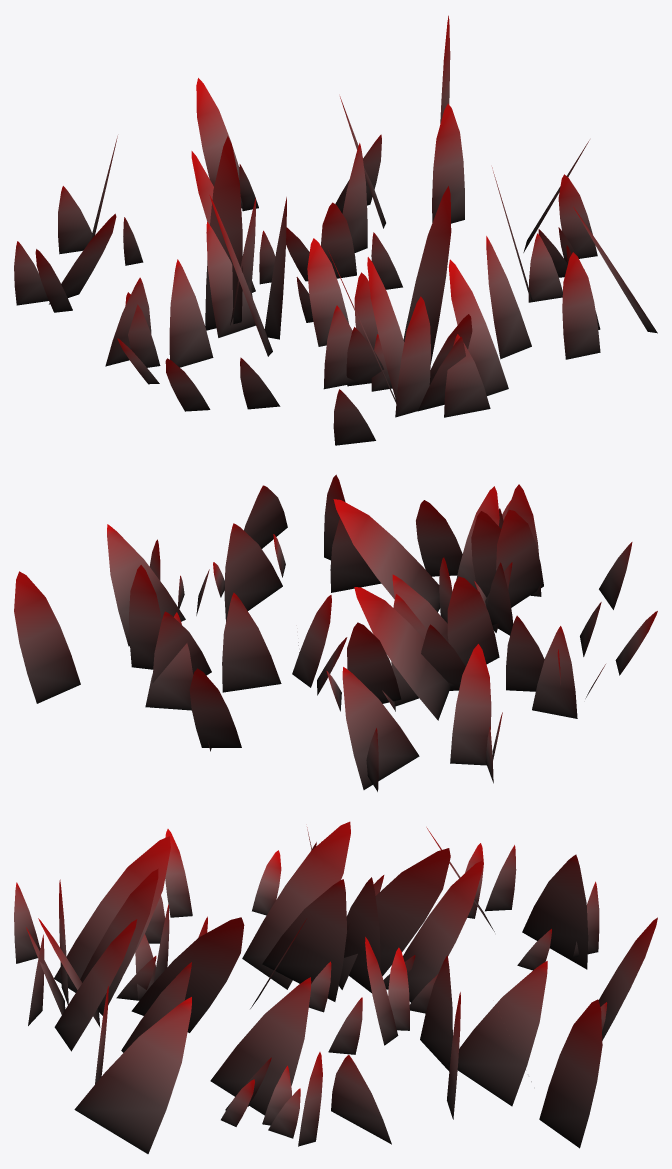
Rendered from f_Grass_Test_3.fbx.
3 views of the same model, one above another, from view 1: azimuth 30°, elevation 25°; view 2: azimuth 150°, elevation 25°; view 3: azimuth 270°, elevation 25° (orthographic). The views are drawn at different scales.
Visible parts, largest first — view 1: GrassNode.001; view 2: GrassNode.001; view 3: GrassNode.001.
Boxes of the visible parts, x1,y1,x2,y2 form: GrassNode.001: (14, 15, 657, 445); GrassNode.001: (14, 474, 657, 791); GrassNode.001: (14, 821, 657, 1153).
Size of the model in its own units: 1.07 by 0.3172 by 1.12.
